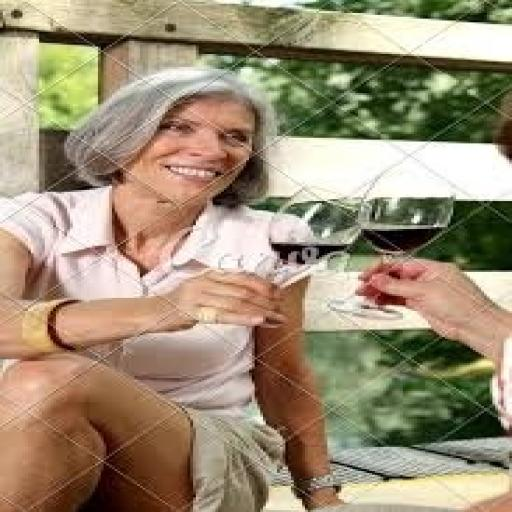drinking: (88, 46, 497, 404)
